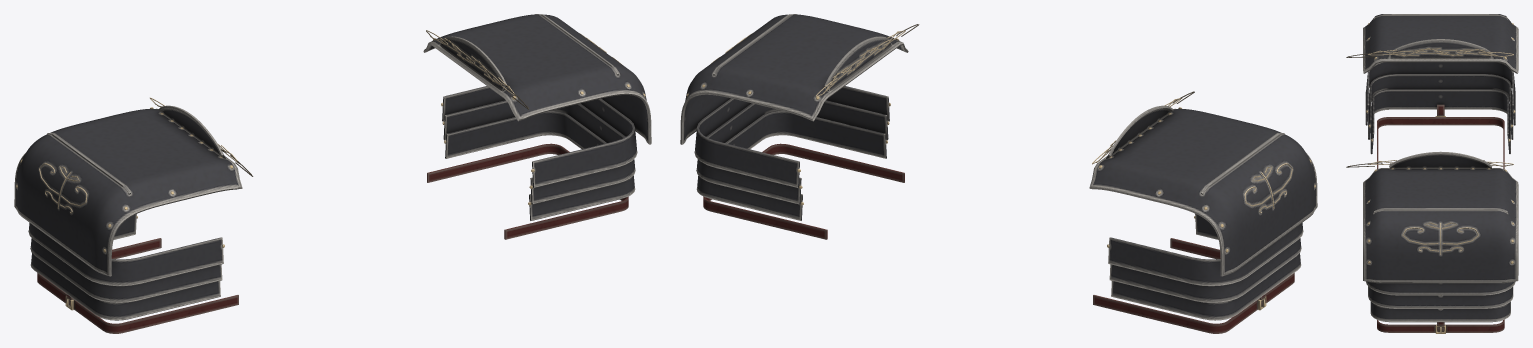
Rendered from NHAcc_Pauldrons.fbx.
The picture shows the model from 3 angles, left to right: view 1: azimuth 30°, elevation 25°; view 2: azimuth 150°, elevation 25°; view 3: azimuth 270°, elevation 25°; orthographic projection. The views are drawn at different scales.
Parts seen in each view (by area): view 1: PauldronR, PauldronL; view 2: PauldronR, PauldronL; view 3: PauldronL, PauldronR.
Boxes of the visible parts, x1,y1,x2,y2 form: PauldronR: (14, 97, 253, 333); PauldronL: (423, 14, 651, 239); PauldronR: (1089, 91, 1317, 333); PauldronL: (680, 14, 919, 239); PauldronL: (1346, 151, 1518, 333); PauldronR: (1346, 14, 1518, 169).
Bounding box in the file's own units: 4.26 × 1.21 × 1.42.
